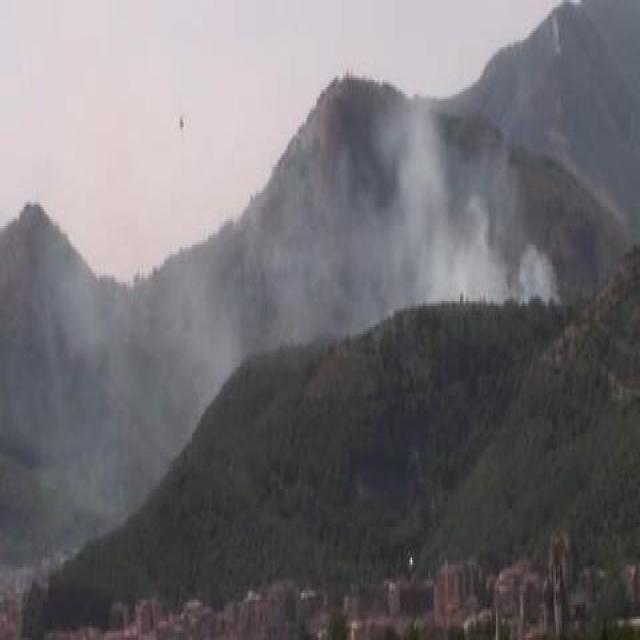Smoke: (332, 98, 548, 310)
